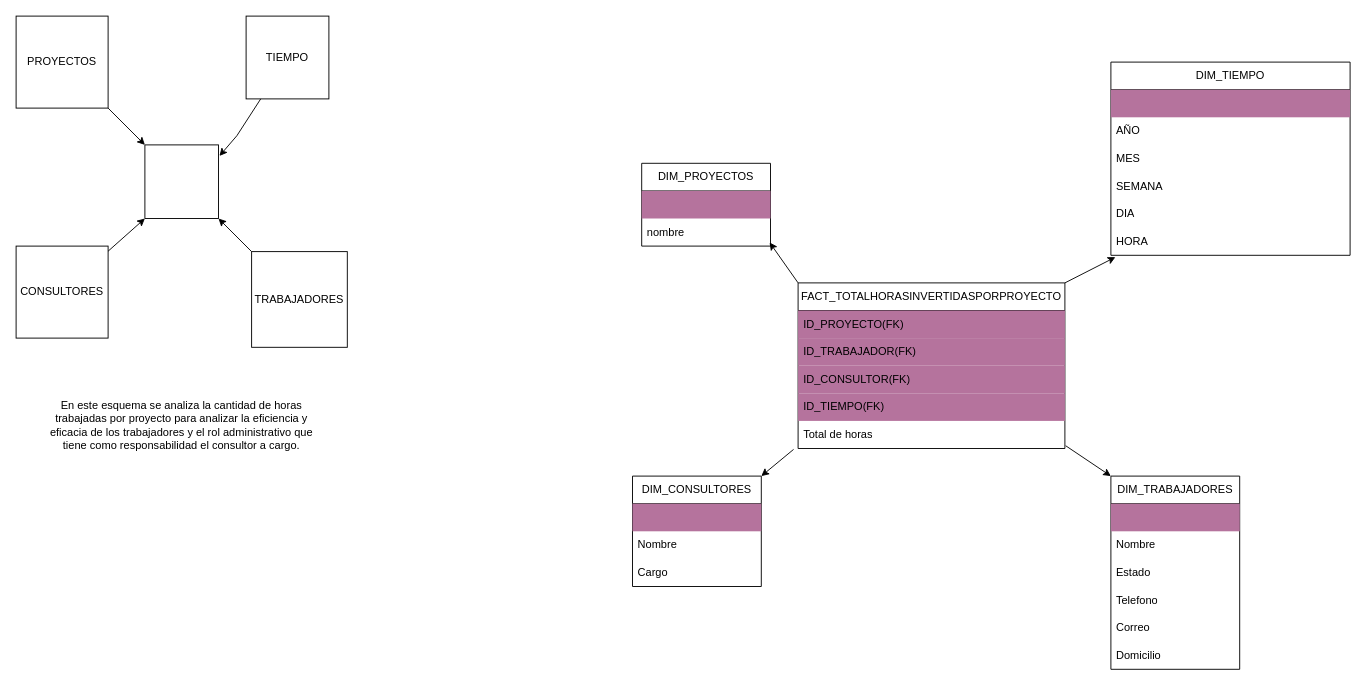
The diagram is 1366 pixels wide and 685 high, and some of its shapes have lost their labels. The shapes that lost their labels are listed below. From the top down, each one's centre as x and y in pixels, then its label:
At (1230,103): "ID_TIEMPO(PK)".
At (181,181): "TOTAL HORAS INVERTIDAS POR PROYECTO".
At (705,204): "ID_PROYECTO(PK)".
At (696,517): "ID_CONSULTOR(PK)".
At (1174,517): "ID_TRABAJADOR(PK)".
